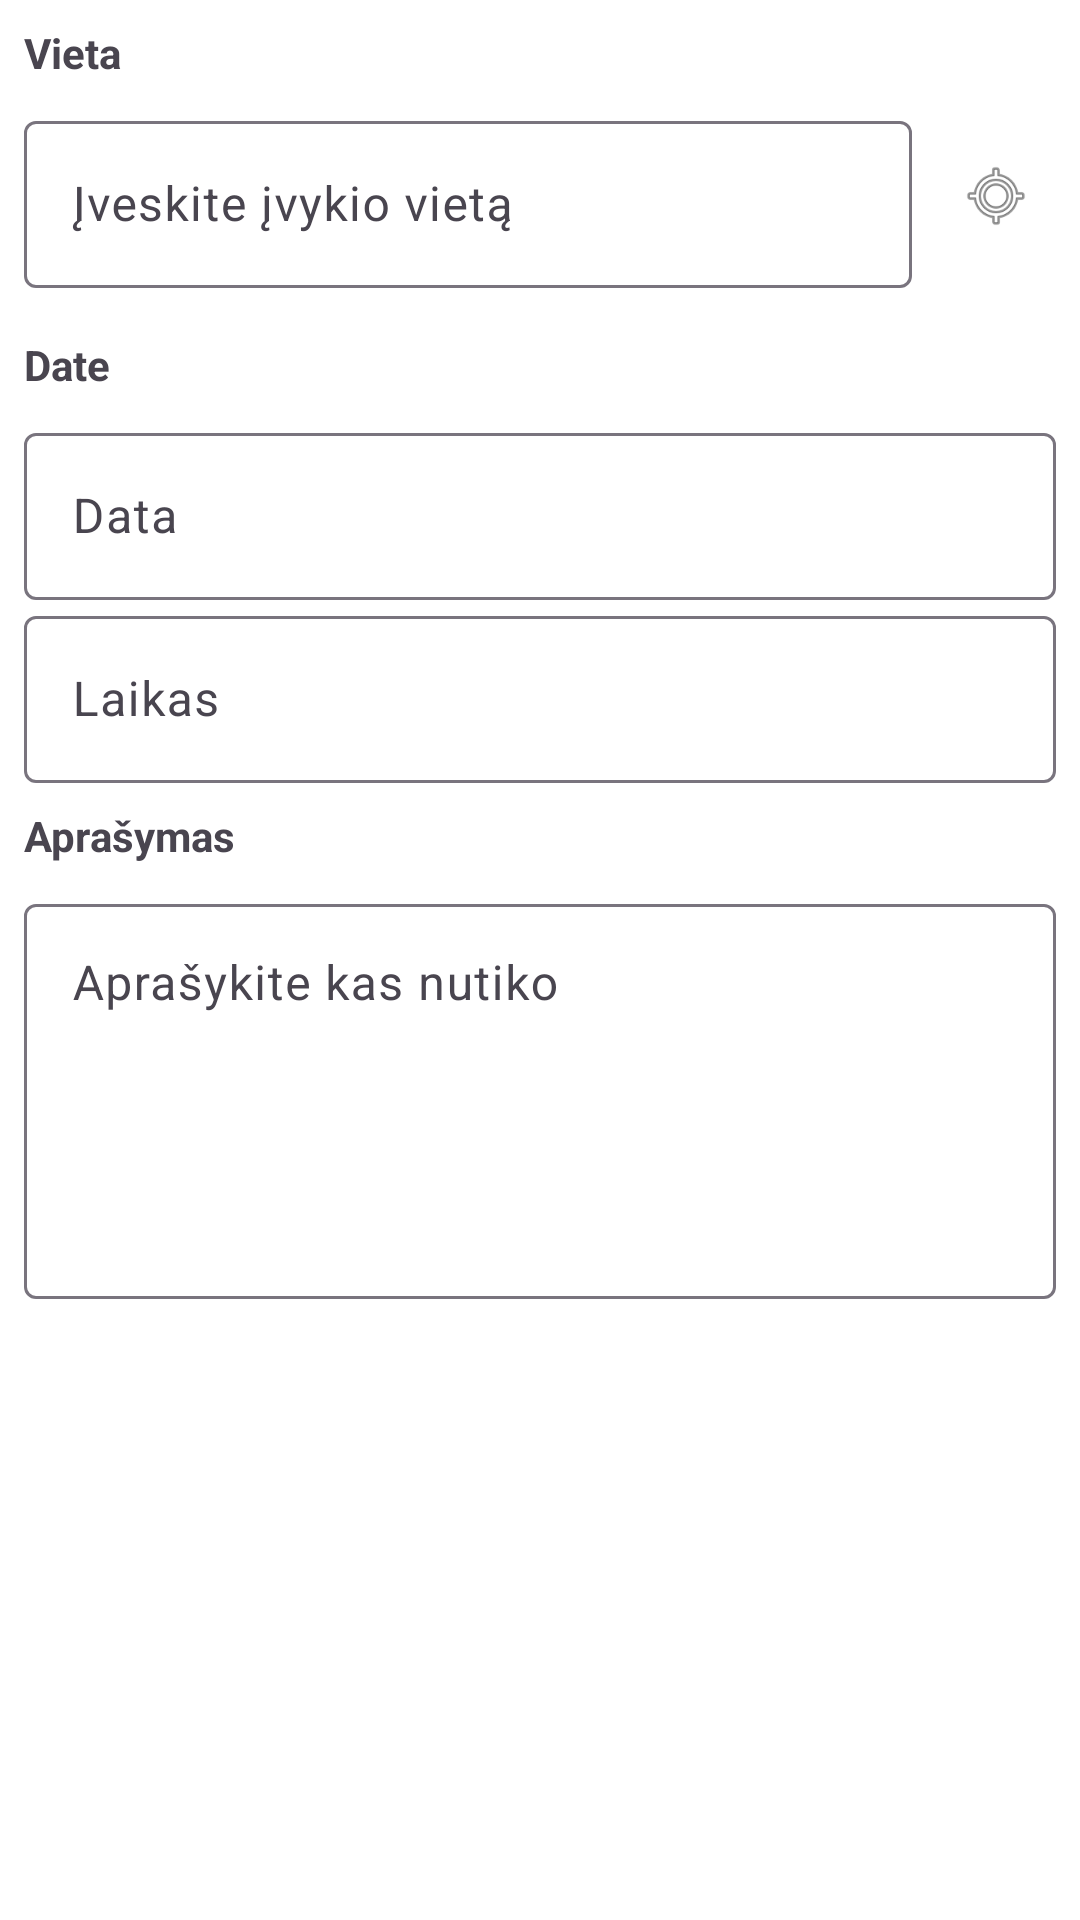

Icon bounding boxes for this 1080px x 1920px phone screenshot, format bbox=[x1, y1, x2, y2]:
Užpildyti įvykio vietą pagal GPS: bbox=[967, 167, 1025, 225]
